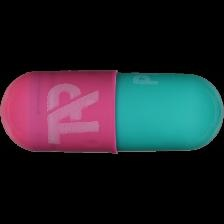21695-474: (0, 0, 224, 224)
